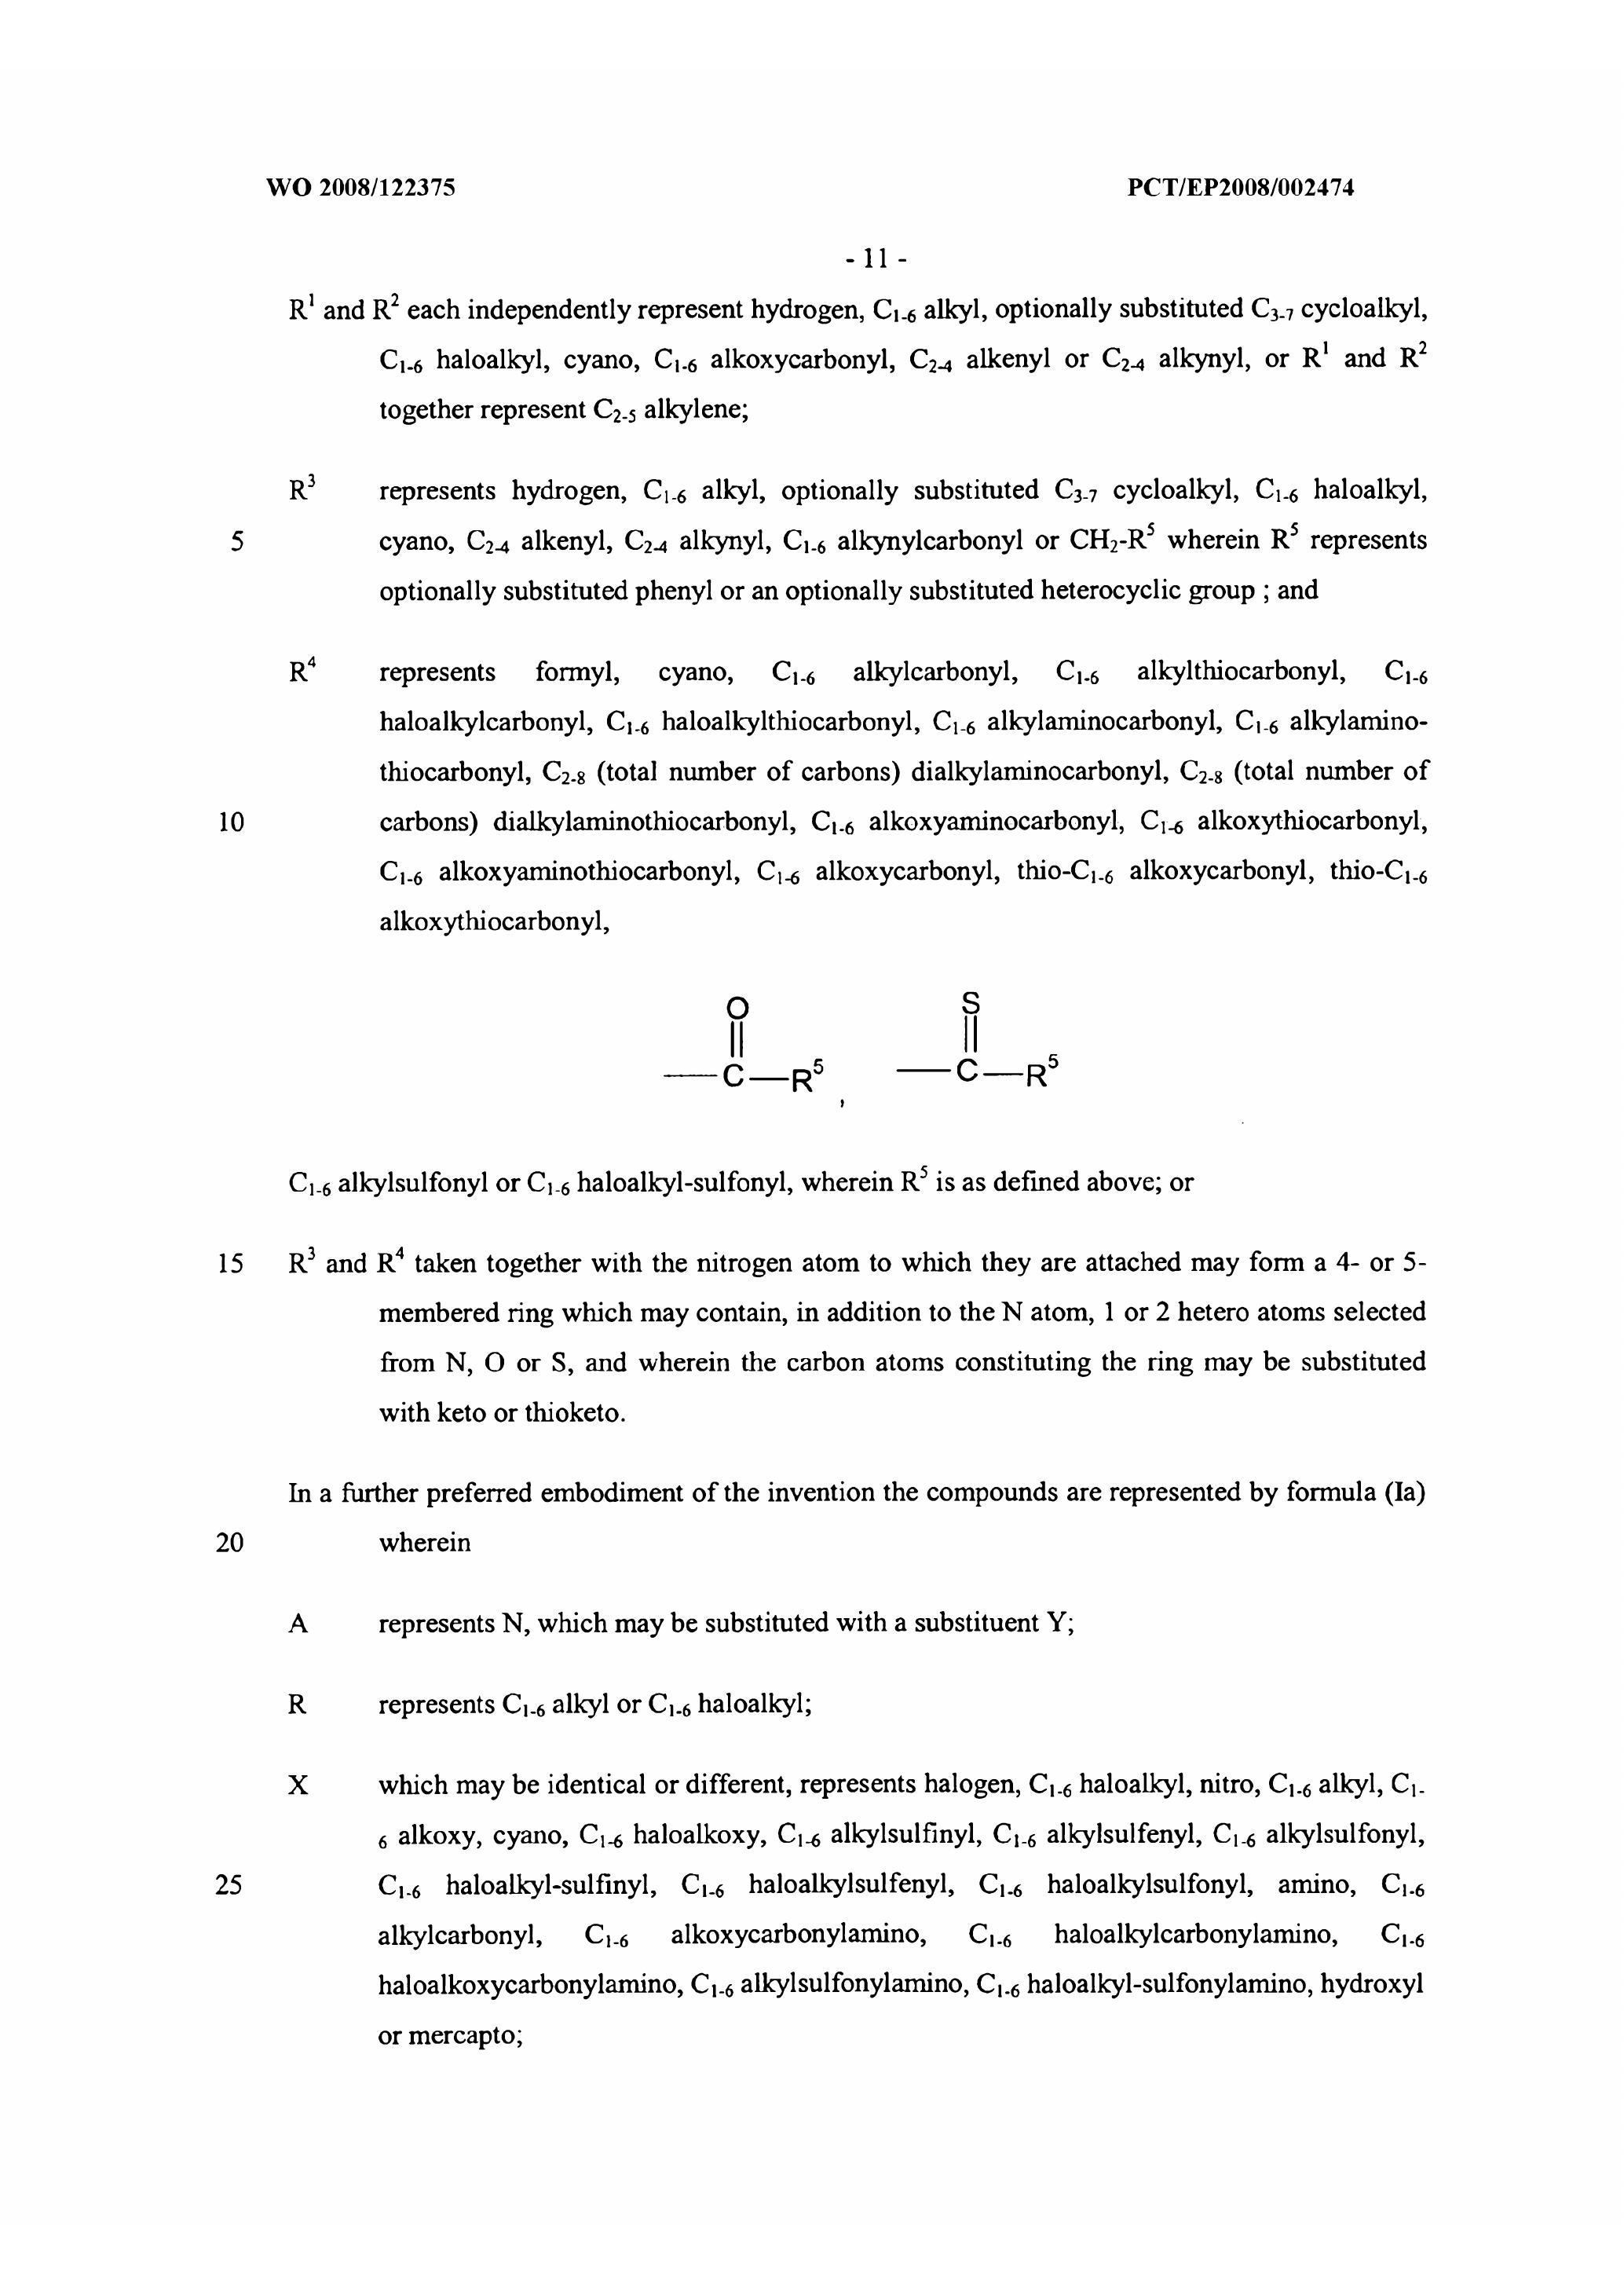substitutes: (260, 635, 1454, 1215)
